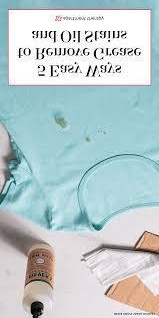oil: (48, 116, 68, 136), (97, 119, 112, 138), (82, 135, 91, 147)
